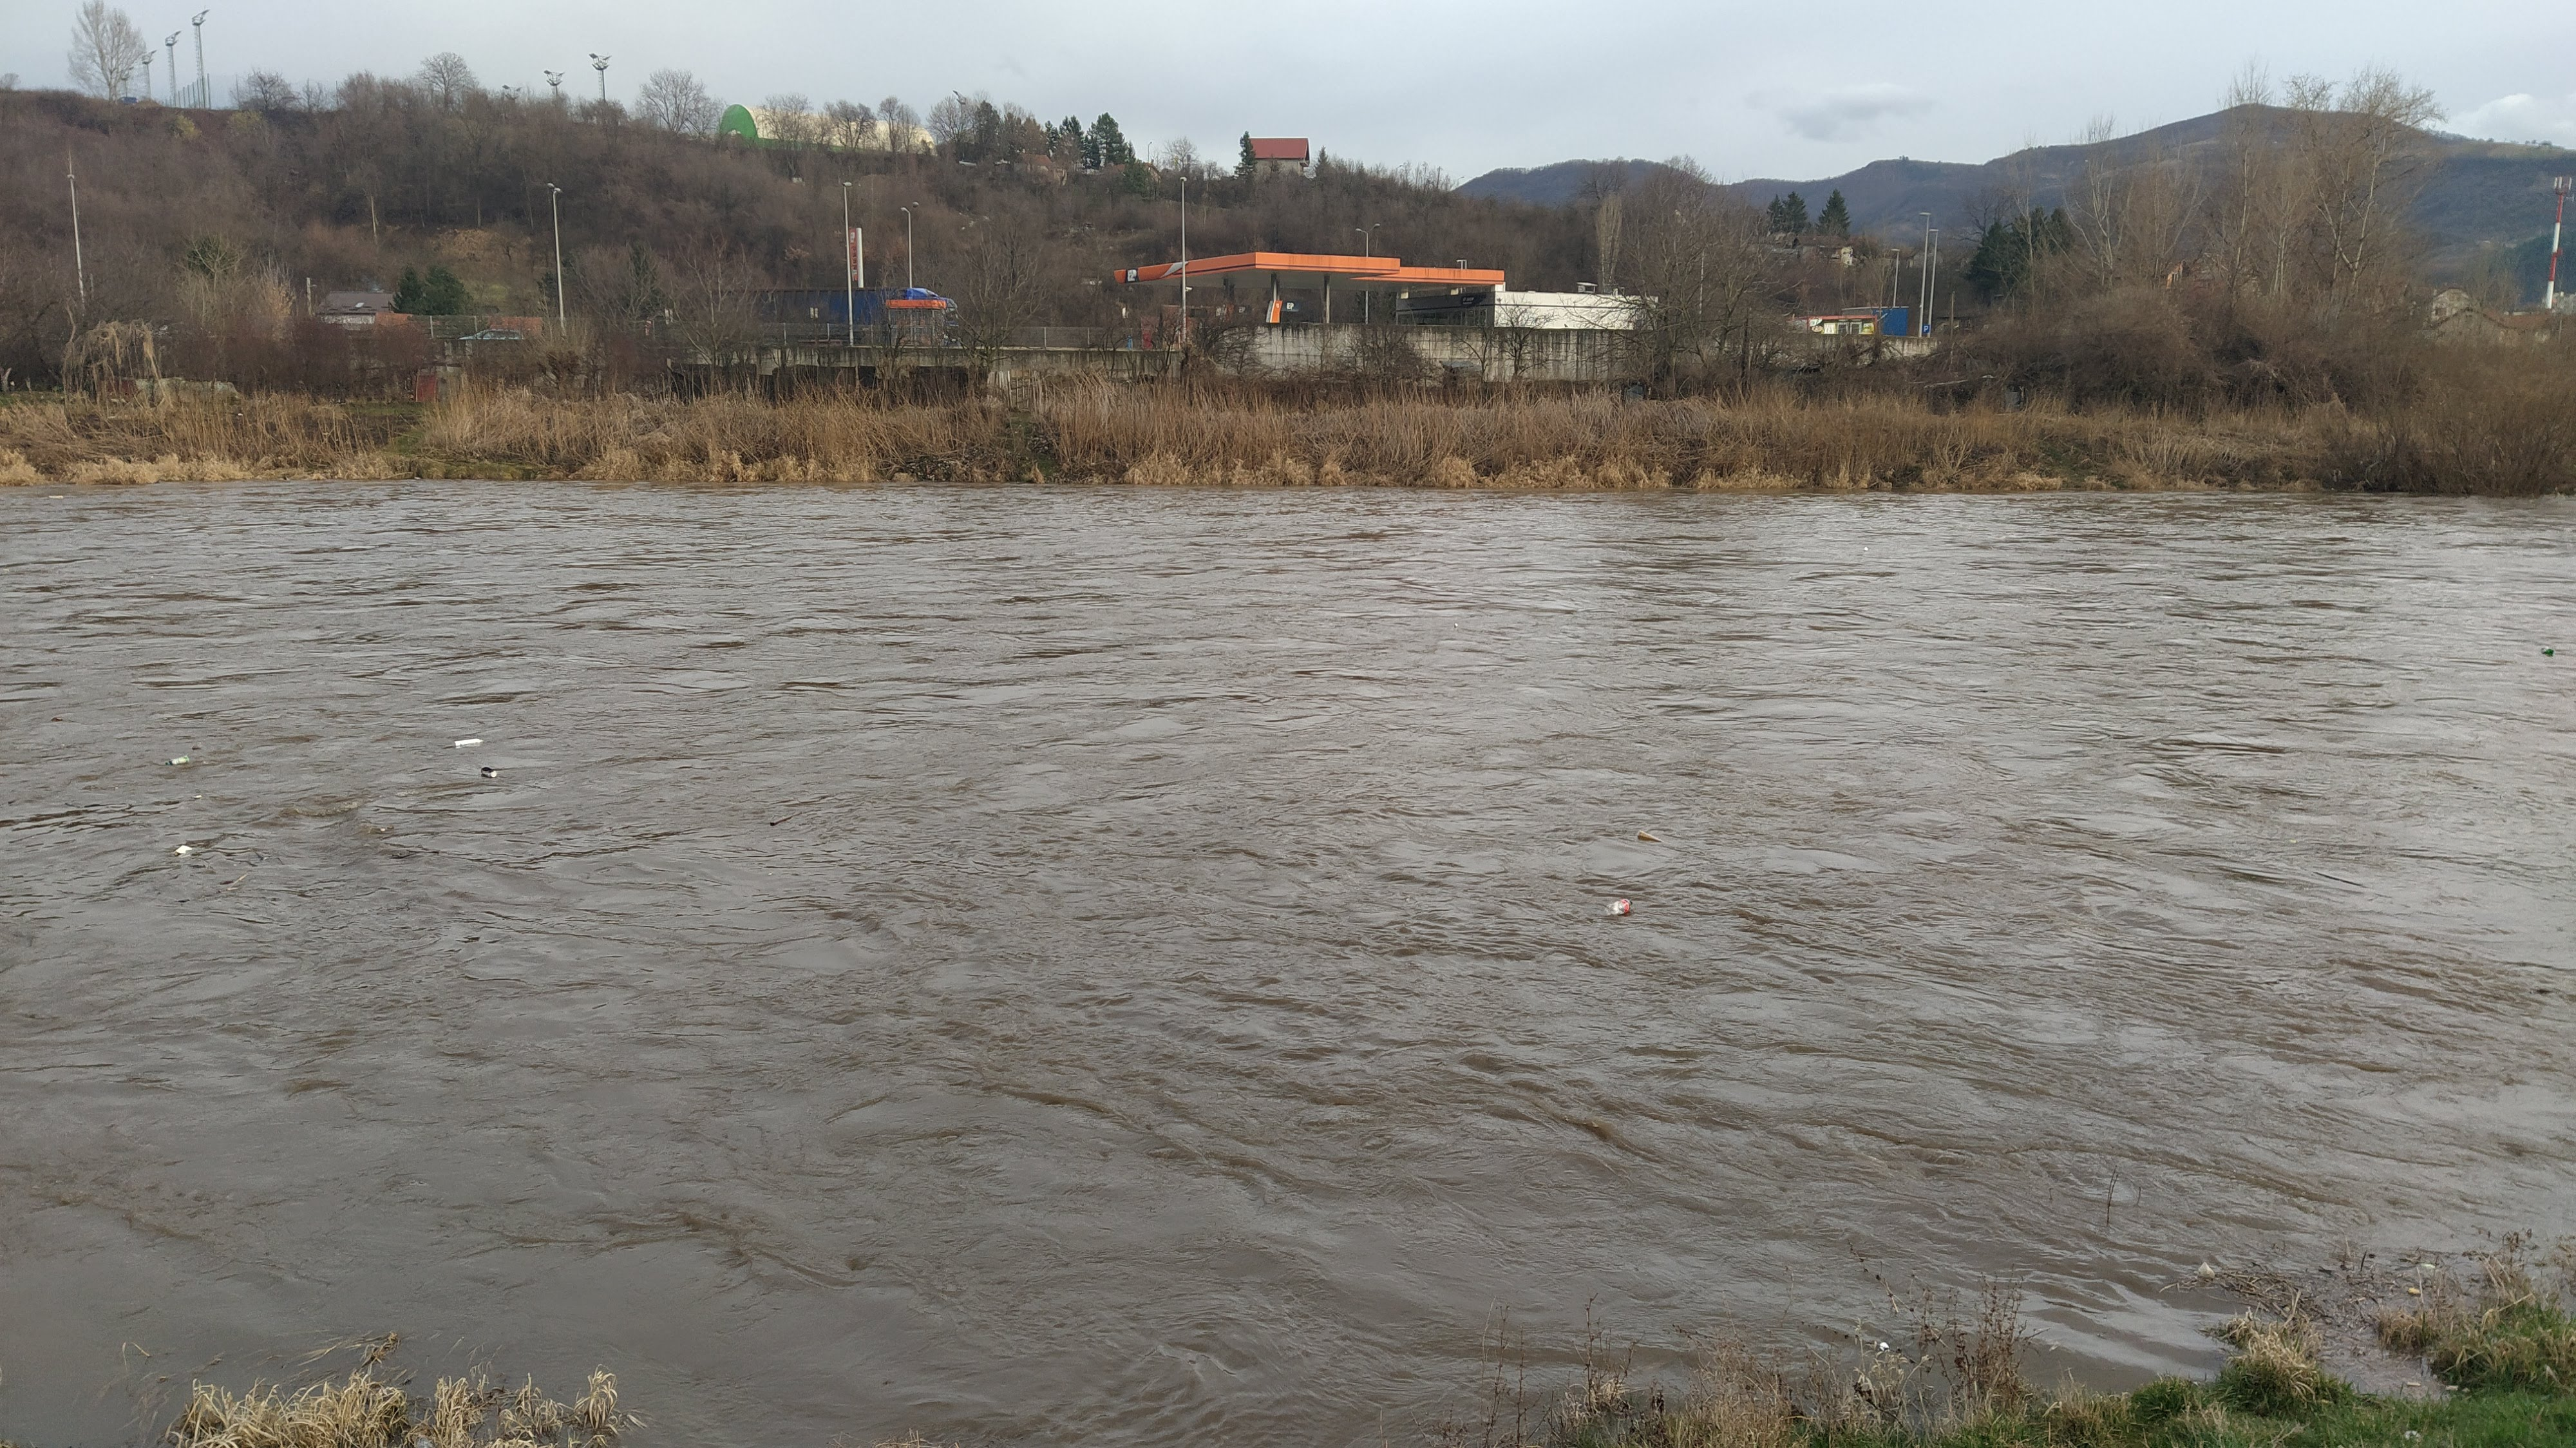Plastic Bottle: (1605, 899, 1633, 915), (2197, 1262, 2215, 1278), (453, 738, 483, 747), (165, 756, 189, 765), (481, 766, 497, 777), (175, 844, 191, 855), (2541, 646, 2553, 655), (191, 743, 202, 751), (50, 494, 62, 499)
